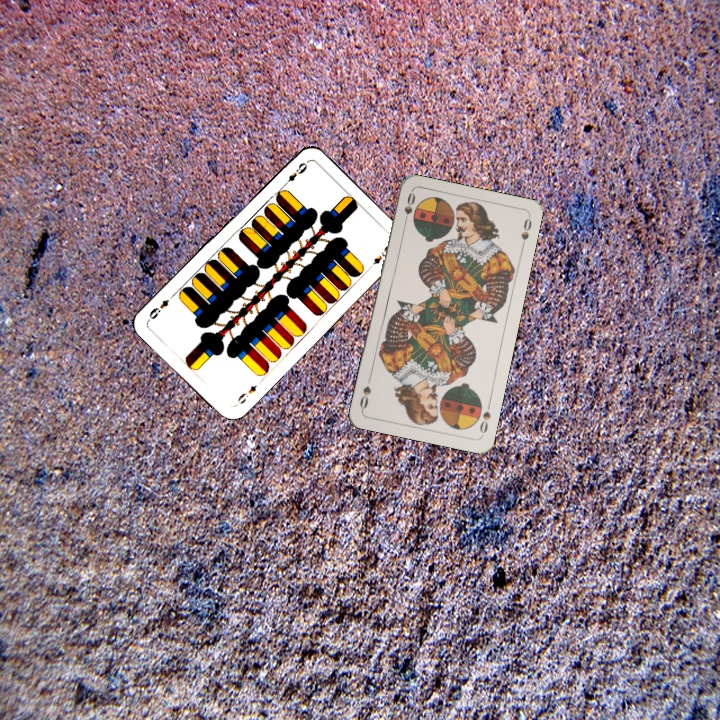E9: (278, 158, 310, 190), (233, 381, 260, 407)
SO: (399, 188, 418, 229), (476, 398, 493, 438)
